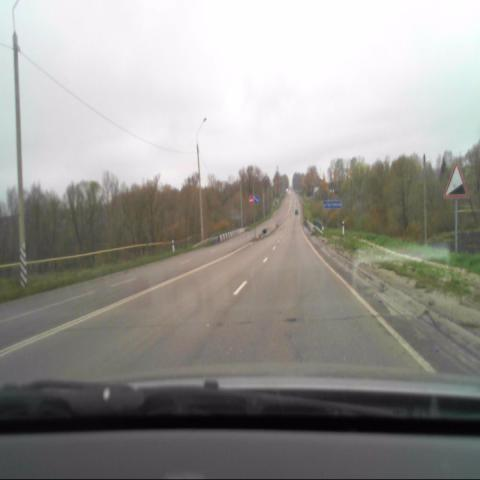1_14: (444, 161, 468, 200)
